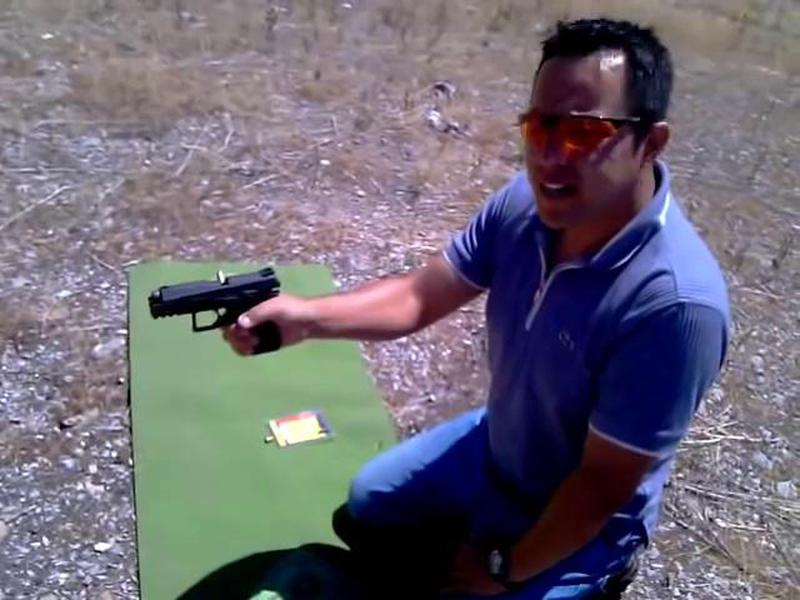Pistola: (116, 256, 298, 369)
